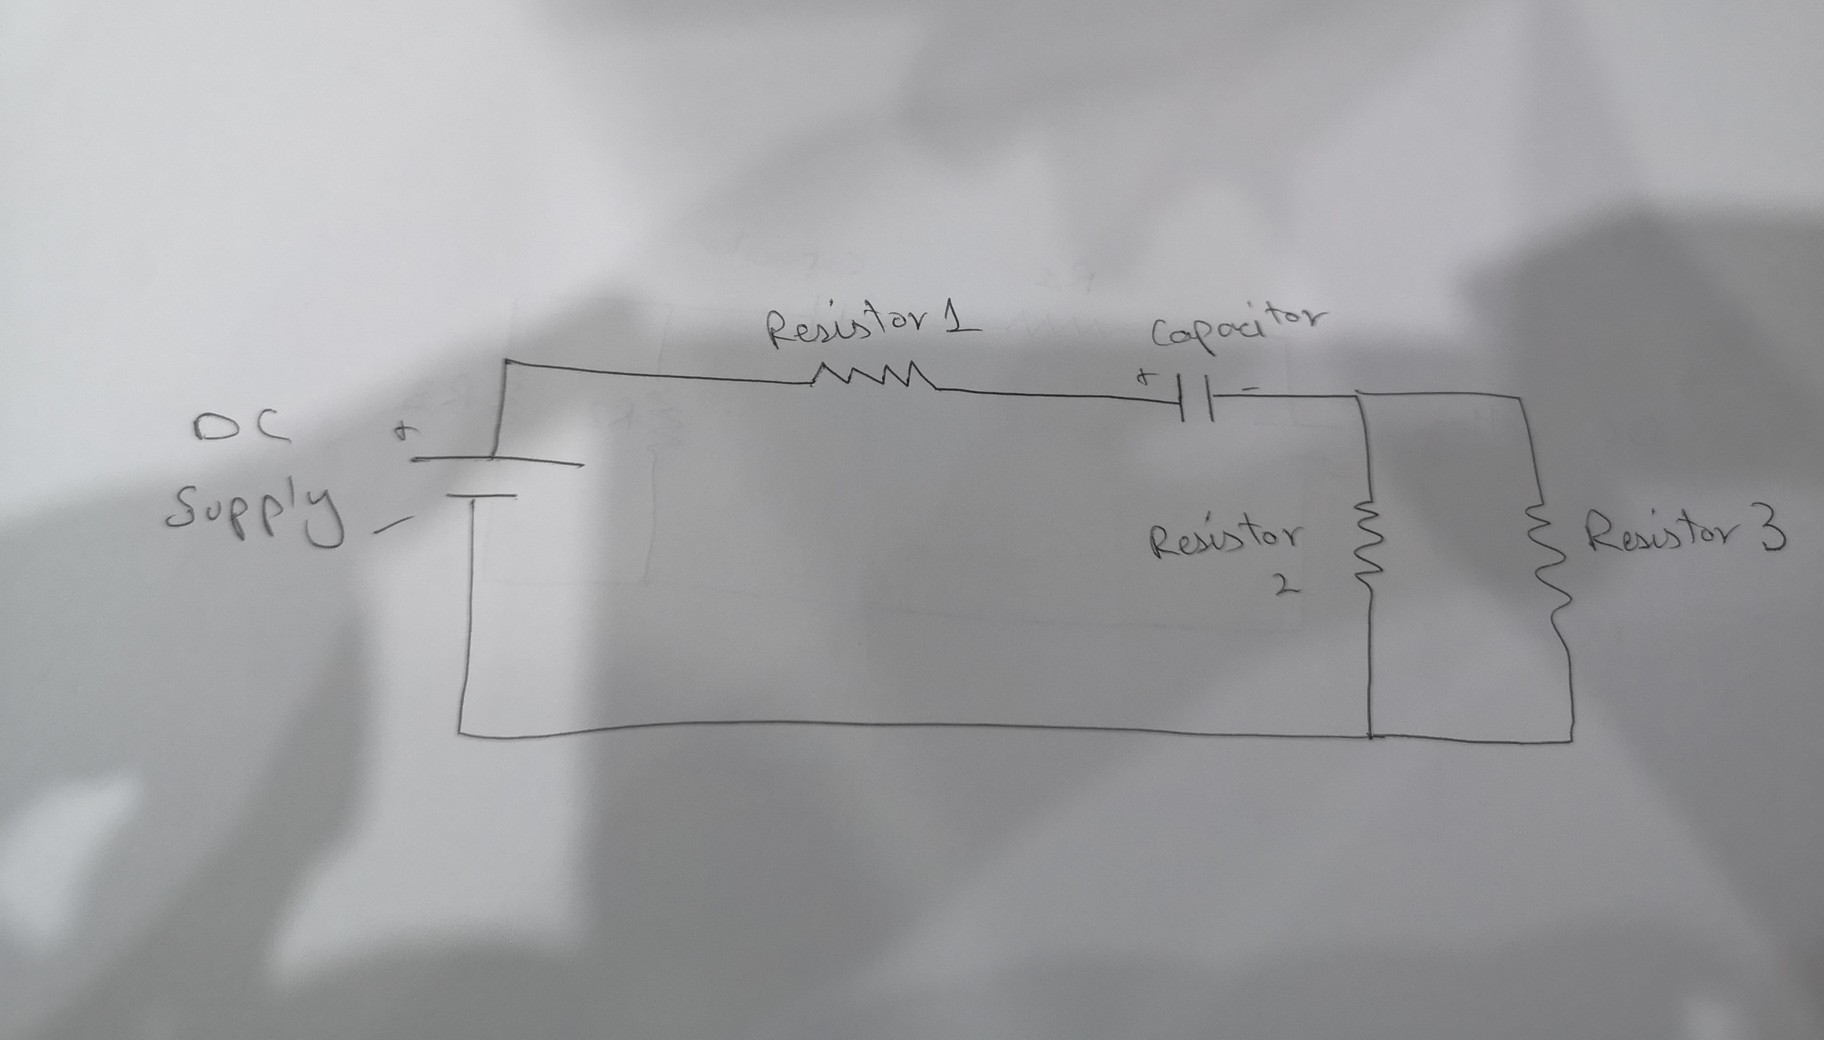capacitor.polarized: (1130, 363, 1269, 429)
junction: (1555, 724, 1585, 754), (1345, 383, 1371, 408), (1358, 724, 1384, 748), (495, 351, 517, 373), (1506, 388, 1530, 410), (450, 722, 469, 741)
resistor: (1518, 489, 1576, 634), (799, 353, 943, 398), (1345, 489, 1389, 593)
text: (157, 469, 355, 555), (1575, 499, 1791, 556), (759, 296, 966, 347), (1146, 302, 1324, 355), (1144, 512, 1309, 558), (185, 402, 299, 449), (1267, 568, 1302, 605)
voltage.dc: (403, 446, 591, 509)
